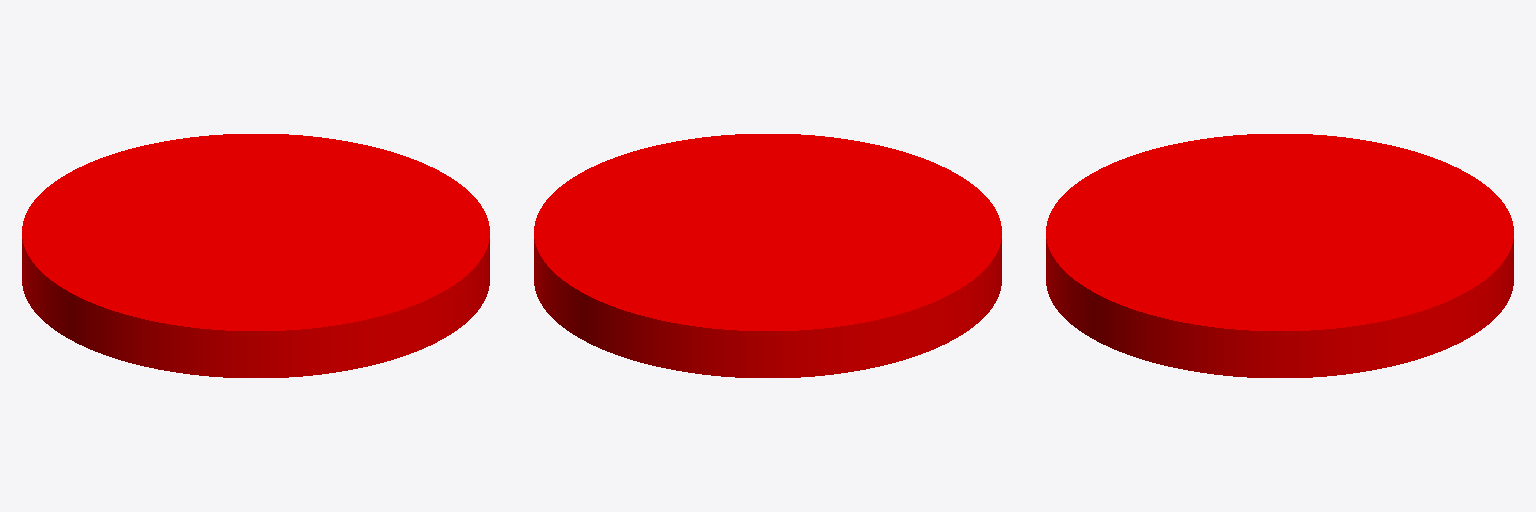
3 views of the same model, side by side, from view 1: azimuth 30°, elevation 25°; view 2: azimuth 150°, elevation 25°; view 3: azimuth 270°, elevation 25° (orthographic).
Parts seen in each view (by area): view 1: Base; view 2: Base; view 3: Base.
Part boxes in pixels (left/top/right/bottom): Base: left=22, top=134, right=489, bottom=377; Base: left=534, top=134, right=1001, bottom=377; Base: left=1046, top=134, right=1513, bottom=377.
Size of the model in its own units: 0.9 by 0.1 by 0.9.